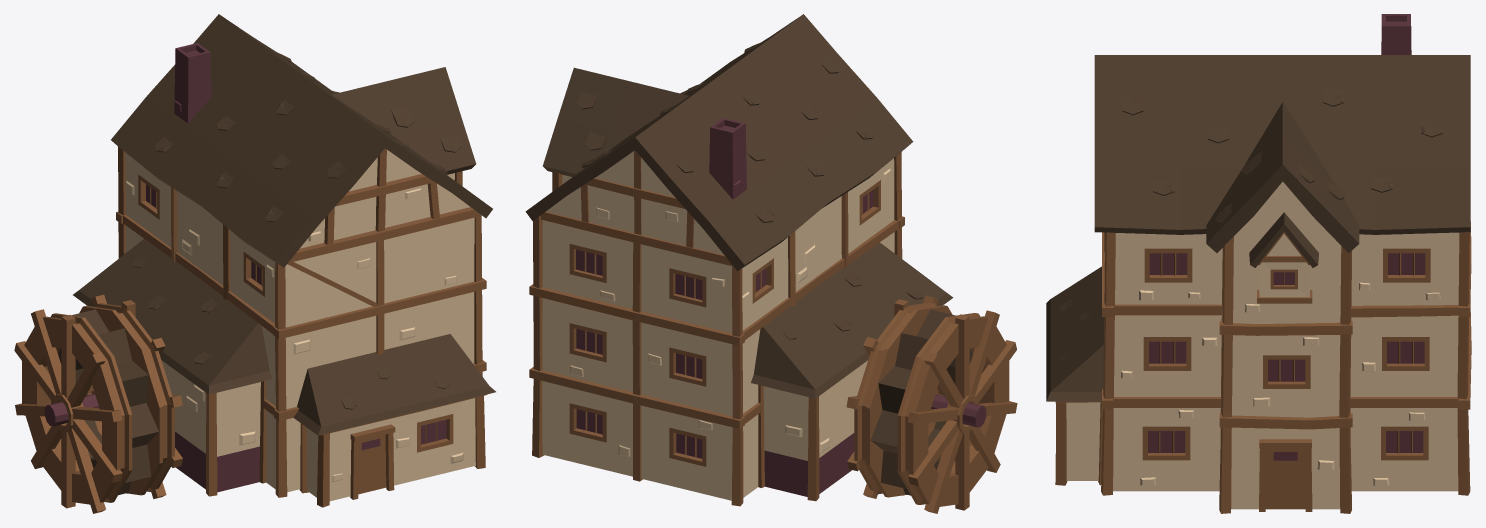
File: watermill-medieval.fbx
3 renders of one model, left to right at view 1: azimuth 30°, elevation 25°; view 2: azimuth 150°, elevation 25°; view 3: azimuth 270°, elevation 25°, orthographic. The views are drawn at different scales.
Parts seen in each view (by area): view 1: watermill-base-medieval, watermill-wheel-medieval; view 2: watermill-base-medieval, watermill-wheel-medieval; view 3: watermill-base-medieval.
Boxes of the visible parts, box(x1,y1,x2,y2) form: watermill-base-medieval: box(73, 14, 495, 507); watermill-wheel-medieval: box(14, 294, 182, 513); watermill-base-medieval: box(525, 14, 953, 506); watermill-wheel-medieval: box(846, 295, 1017, 513); watermill-base-medieval: box(1046, 14, 1471, 513).
Size of the model in its own units: 13.15 by 11.48 by 10.49.
